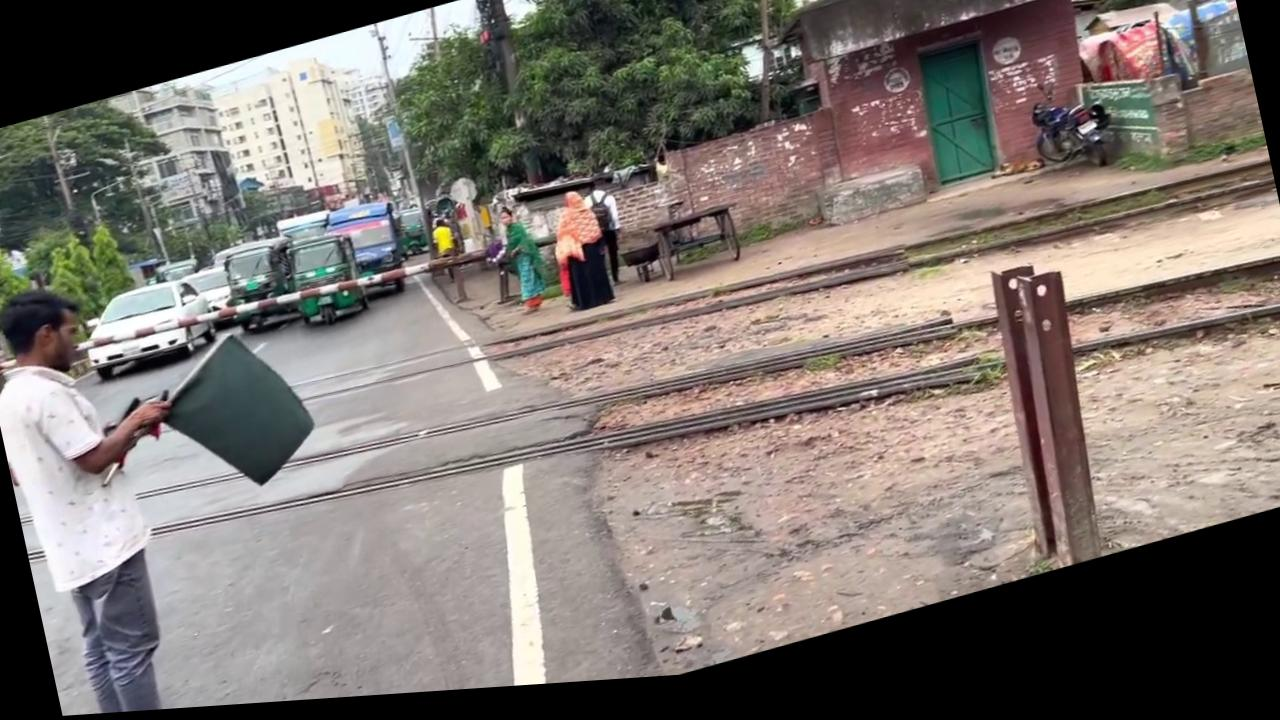Curb: (1022, 81, 1121, 199)
Fence: (0, 255, 246, 720), (542, 192, 618, 325), (491, 203, 557, 326), (578, 183, 633, 298), (428, 220, 462, 291)
Motorcycle: (19, 186, 1280, 668)
Railroad-crossing: (474, 0, 803, 211), (1060, 0, 1230, 38)
